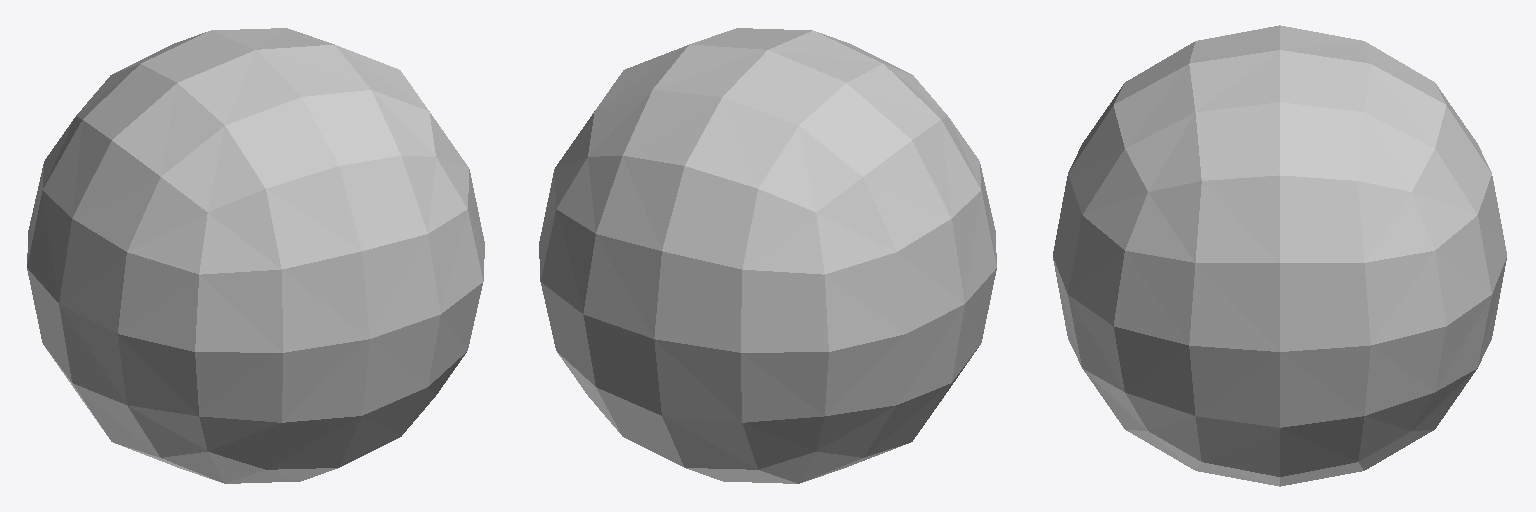
The model's file is gameshell.obj.
3 views of the same model, side by side, from view 1: azimuth 30°, elevation 25°; view 2: azimuth 150°, elevation 25°; view 3: azimuth 270°, elevation 25° (orthographic).
Parts seen in each view (by area): view 1: Cube; view 2: Cube; view 3: Cube.
Boxes of the visible parts, <box> form: Cube: <box>27,28,484,483</box>; Cube: <box>539,28,996,483</box>; Cube: <box>1053,25,1506,486</box>.
Size of the model in its own units: 3.16 by 3.16 by 3.16.